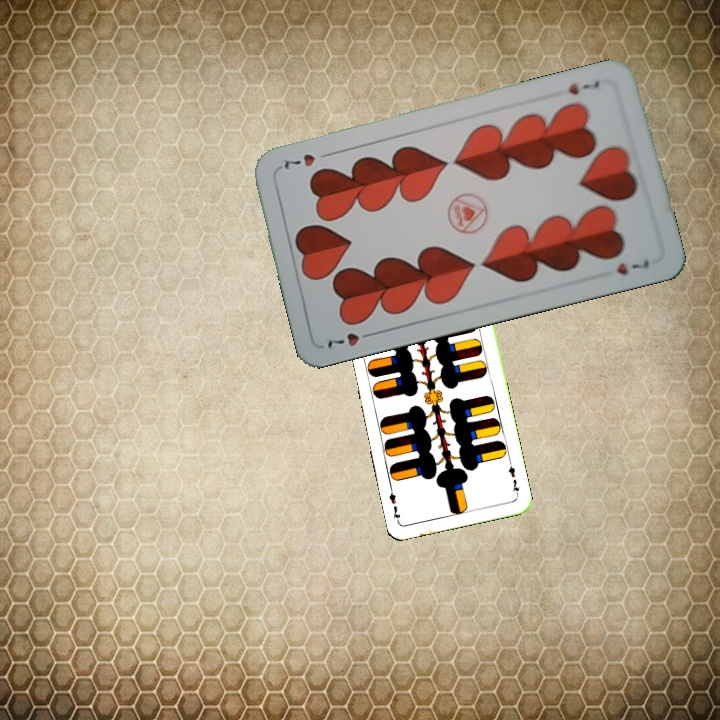E7: (504, 458, 522, 498)
H7: (323, 327, 379, 352), (563, 76, 602, 98)
